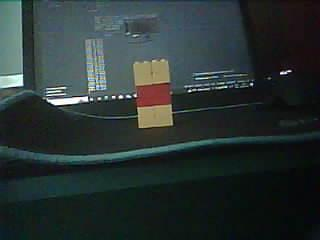lego: (133, 59, 173, 129)
